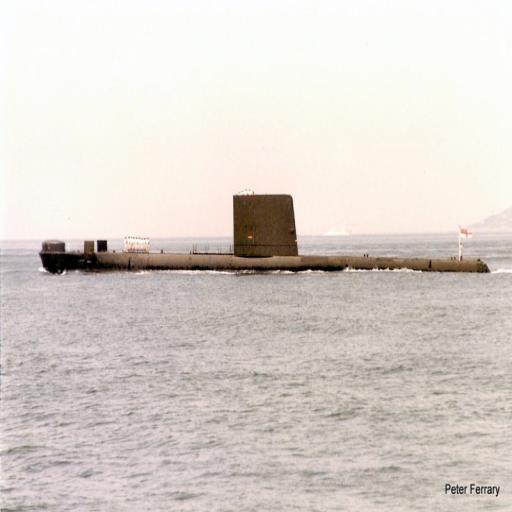submarine: (41, 191, 492, 277)
